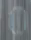Two way: (2, 1, 30, 35)
